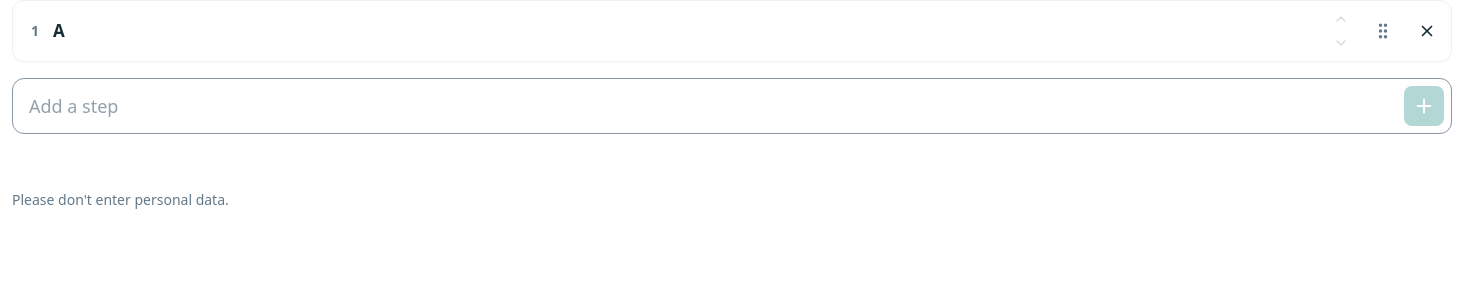
Test: TraceEditor (free) › stops at max steps and says so
The image size is (1464, 296).
Type "B" into the dropdown with test id "trace-input".
click(732, 106); type("B")  # box [12, 78, 1452, 134]
Then press Enter
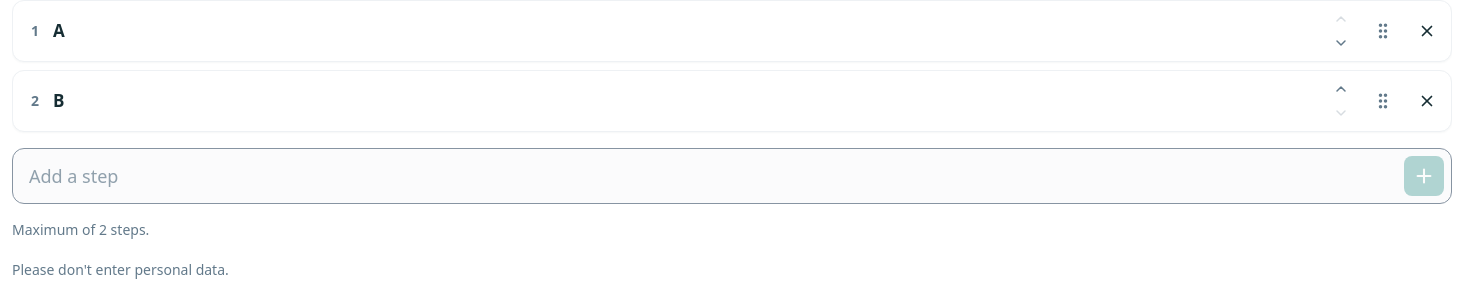
Expected: the number of list items with test id "trace-item" is 2, [12, 0, 1452, 62]; [12, 70, 1452, 132]
Expected: the dropdown with test id "trace-input" is disabled, [12, 148, 1452, 204]
Expected: the text with test id "trace-hint" shows "Maximum of 2 steps", [12, 220, 149, 239]
